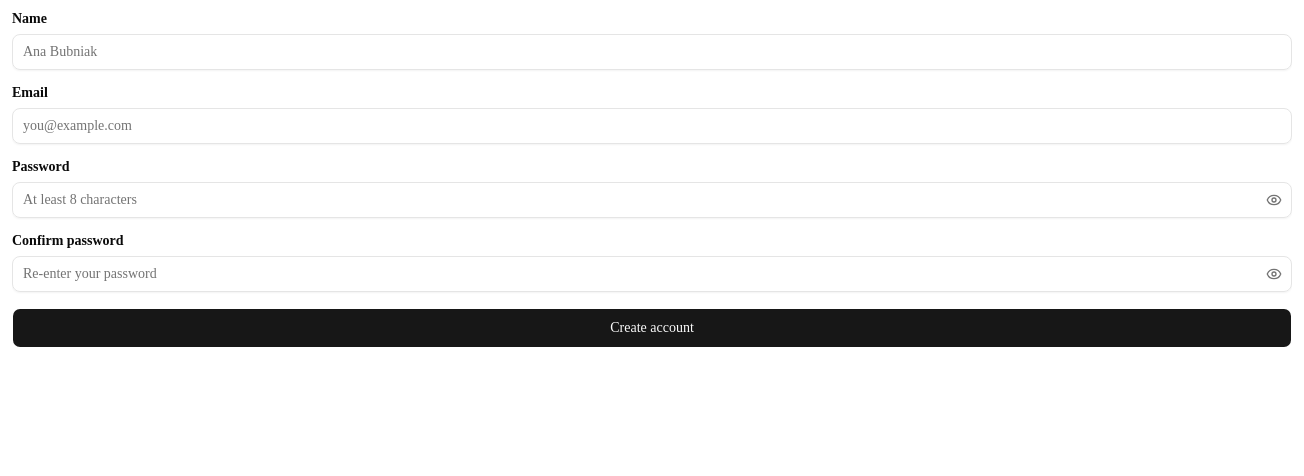
Scenario: RegisterForm › shows an error for every empty field
Step 1. Click the button "Create account" → (652, 328), box top-left (12, 308), bottom-right (1292, 348)
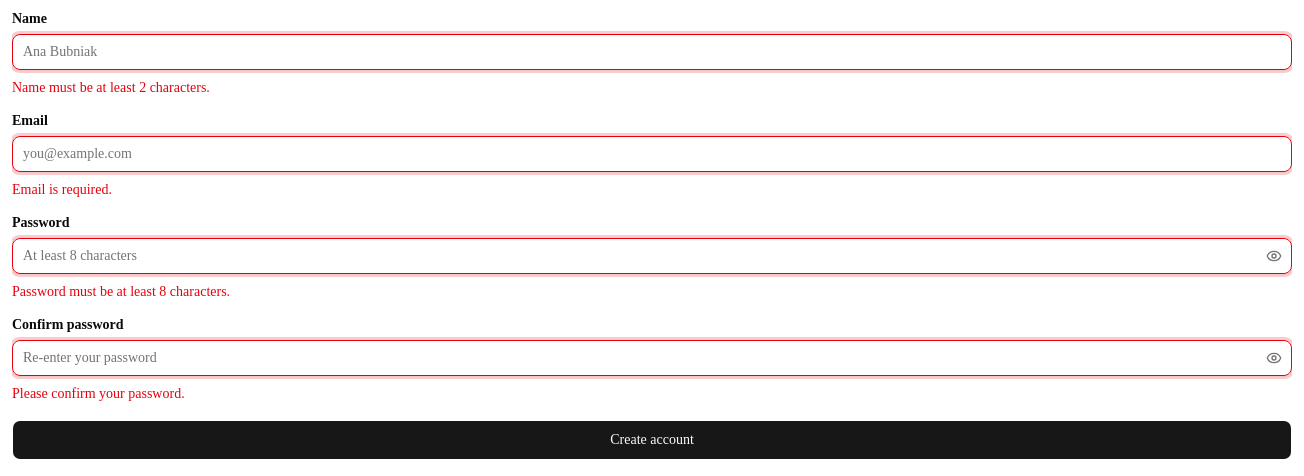
Check: the text "Name must be at least 2 characters." is shown, box top-left (12, 80), bottom-right (210, 95)
Check: the text "Email is required." is shown, box top-left (12, 182), bottom-right (112, 197)
Check: the text "Password must be at least 8 characters." is shown, box top-left (12, 284), bottom-right (230, 299)
